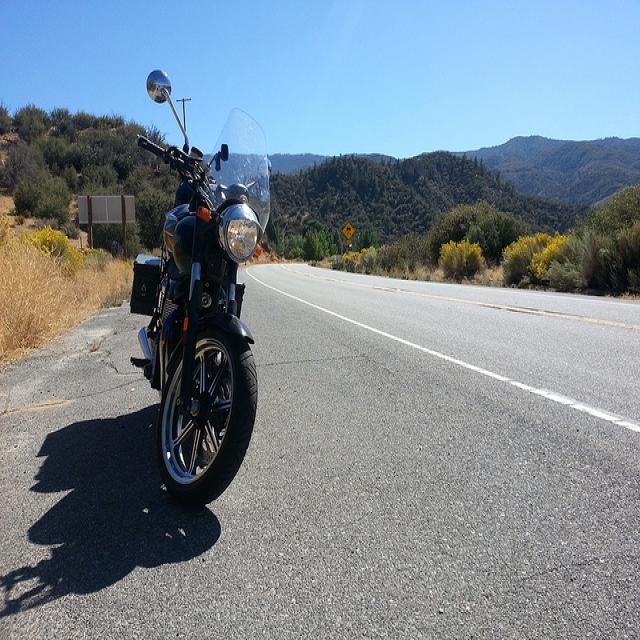motor: (126, 70, 268, 511)
